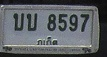txt21: (12, 12, 25, 32), (25, 12, 38, 32)
